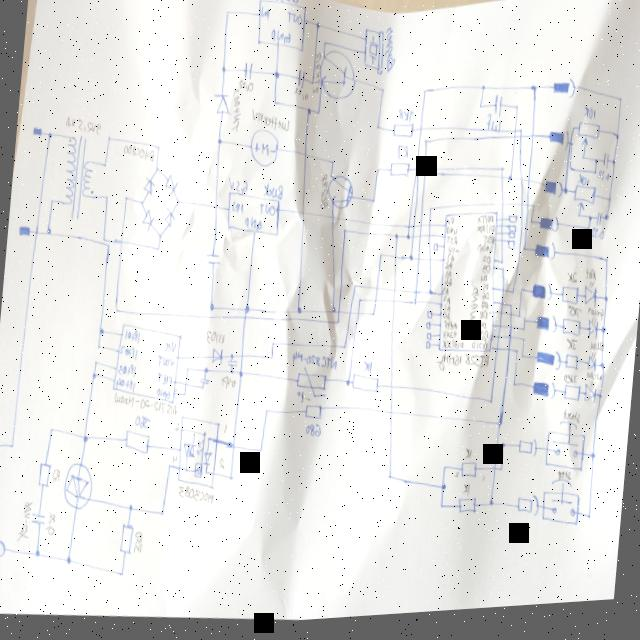capacitor: (203, 251, 222, 268), (492, 99, 504, 122), (241, 61, 254, 82), (30, 510, 45, 525), (296, 70, 306, 92), (600, 157, 611, 177), (592, 215, 602, 233), (226, 359, 237, 371), (200, 378, 210, 385)
crossover: (229, 442, 236, 452), (388, 386, 395, 394), (329, 216, 336, 224), (390, 290, 398, 297), (117, 238, 124, 245), (212, 205, 219, 212), (387, 412, 394, 419), (301, 153, 307, 161), (182, 381, 188, 388), (412, 292, 418, 299), (372, 300, 378, 307), (524, 207, 530, 214), (406, 227, 412, 234), (299, 212, 305, 218), (33, 228, 39, 234), (390, 302, 396, 308), (346, 313, 352, 319), (511, 133, 517, 139), (525, 183, 531, 189), (518, 207, 524, 213), (507, 329, 513, 335), (506, 339, 512, 345), (506, 352, 512, 358), (392, 257, 398, 263), (426, 225, 432, 231), (426, 236, 432, 242), (413, 170, 419, 176), (239, 355, 244, 361), (374, 289, 379, 295), (499, 180, 504, 186), (494, 351, 499, 357), (495, 339, 500, 345), (497, 328, 502, 334), (498, 315, 503, 321), (499, 306, 504, 312), (500, 292, 505, 298), (336, 312, 341, 318), (418, 226, 423, 232), (411, 226, 416, 232), (427, 261, 432, 267), (418, 129, 422, 136), (530, 138, 534, 145), (492, 470, 496, 477), (356, 313, 360, 319), (518, 181, 522, 187), (500, 207, 504, 213), (508, 317, 512, 323), (568, 146, 572, 152), (512, 140, 516, 145), (422, 171, 427, 175), (518, 140, 522, 144), (422, 177, 426, 181)
diode: (579, 287, 599, 317), (212, 93, 232, 118), (582, 386, 598, 412), (163, 173, 179, 197), (140, 208, 156, 232), (208, 346, 224, 366), (162, 206, 175, 230), (585, 323, 599, 345), (584, 357, 598, 378), (142, 174, 154, 196)
junction: (242, 304, 251, 316), (294, 307, 302, 319), (80, 432, 88, 444), (528, 89, 538, 98), (272, 71, 280, 82), (64, 554, 72, 565), (44, 226, 52, 235), (46, 129, 54, 138), (328, 308, 336, 317), (90, 370, 98, 379), (207, 303, 214, 313), (34, 546, 40, 557), (92, 357, 100, 365), (496, 424, 504, 432), (340, 229, 348, 237), (314, 111, 322, 119), (138, 198, 146, 206), (578, 160, 586, 168), (612, 138, 620, 146), (127, 503, 134, 512), (480, 87, 487, 96), (585, 518, 592, 527), (386, 475, 393, 484), (103, 192, 110, 201), (95, 342, 102, 351), (407, 257, 414, 266), (404, 236, 411, 245), (227, 475, 234, 484), (215, 138, 222, 147), (237, 371, 244, 380), (439, 487, 446, 495), (589, 458, 596, 466), (305, 110, 312, 118), (393, 235, 400, 243), (105, 134, 112, 142), (118, 569, 125, 577), (374, 127, 381, 135), (101, 160, 108, 168), (375, 169, 382, 177), (602, 219, 609, 227), (602, 263, 610, 270), (202, 367, 209, 375), (183, 366, 190, 374), (269, 341, 276, 349), (349, 285, 356, 293), (377, 255, 384, 263), (220, 66, 227, 74), (600, 332, 607, 340), (159, 509, 165, 518), (314, 23, 320, 32), (156, 231, 162, 240), (567, 170, 573, 179), (422, 141, 429, 148), (506, 180, 513, 187), (369, 201, 376, 208), (488, 503, 494, 511), (98, 327, 104, 335), (422, 91, 428, 99), (520, 330, 526, 338), (522, 321, 528, 329), (344, 381, 350, 389), (530, 209, 536, 217), (562, 192, 568, 200), (599, 368, 605, 376), (224, 10, 230, 17), (617, 102, 623, 109), (370, 314, 376, 321), (104, 242, 110, 249), (427, 293, 433, 300), (498, 171, 504, 178), (520, 251, 526, 258), (49, 196, 54, 204), (611, 165, 616, 173), (322, 42, 327, 50), (500, 447, 506, 453), (514, 109, 520, 115), (264, 409, 270, 415), (438, 507, 444, 513), (518, 292, 524, 298), (155, 246, 161, 252), (123, 195, 129, 201), (514, 353, 520, 359), (268, 355, 274, 361), (166, 463, 172, 469), (174, 199, 180, 205), (154, 166, 160, 172), (272, 102, 278, 108), (100, 236, 106, 242), (228, 370, 234, 376), (411, 303, 417, 309), (498, 264, 504, 270), (487, 403, 493, 409), (592, 165, 598, 171), (511, 385, 516, 392), (113, 306, 118, 313), (415, 175, 420, 182), (606, 202, 611, 209), (570, 130, 575, 137), (49, 425, 54, 431), (442, 468, 447, 474), (156, 145, 161, 151), (517, 318, 522, 324), (229, 354, 234, 360), (518, 133, 523, 139), (528, 224, 533, 230), (520, 342, 525, 348), (510, 295, 515, 301), (587, 222, 592, 228), (603, 302, 608, 308), (258, 448, 262, 455), (10, 440, 14, 447), (342, 347, 346, 353), (428, 209, 432, 215), (330, 161, 334, 167), (358, 300, 362, 306), (478, 108, 482, 114), (182, 392, 186, 398), (380, 91, 384, 97), (508, 308, 512, 314), (498, 472, 502, 478), (576, 217, 580, 223), (598, 399, 602, 405), (520, 358, 524, 364), (310, 83, 314, 89), (500, 273, 504, 277), (586, 232, 590, 236), (200, 386, 203, 391)
resistor: (122, 427, 152, 457), (350, 373, 382, 398), (571, 186, 595, 217), (576, 126, 600, 155), (117, 520, 136, 556), (558, 322, 582, 345), (391, 124, 414, 144), (36, 460, 52, 488), (559, 289, 579, 311), (456, 500, 476, 521), (458, 464, 478, 484), (389, 164, 410, 183), (302, 405, 323, 424), (562, 391, 580, 409), (564, 359, 580, 377)
source: (17, 221, 31, 237)
switch: (542, 422, 588, 482), (539, 481, 582, 535)
terminal: (0, 537, 7, 558), (32, 124, 42, 136)
text: (112, 388, 180, 422), (436, 353, 489, 378), (290, 349, 338, 376), (250, 108, 291, 137), (176, 483, 214, 508), (64, 112, 103, 135), (380, 29, 398, 77), (15, 498, 32, 542), (122, 141, 154, 164), (310, 53, 324, 99), (228, 90, 242, 136), (465, 290, 478, 326), (262, 183, 284, 204), (225, 177, 249, 196), (318, 175, 330, 212), (131, 410, 151, 431), (204, 330, 226, 347), (43, 510, 57, 535), (482, 123, 502, 140), (561, 414, 581, 431), (304, 424, 322, 442), (157, 353, 176, 370), (271, 30, 290, 47), (132, 529, 144, 555), (266, 0, 300, 9), (396, 110, 414, 127), (258, 203, 276, 220), (118, 361, 136, 377), (114, 377, 136, 390), (442, 342, 464, 355), (119, 344, 138, 359), (154, 371, 173, 386), (243, 218, 262, 233), (284, 13, 301, 29), (292, 90, 308, 106), (238, 80, 254, 96), (395, 147, 410, 164), (123, 328, 141, 342), (560, 377, 578, 391), (218, 376, 236, 390), (585, 312, 604, 325), (588, 233, 605, 247), (582, 110, 596, 127), (564, 342, 578, 359), (295, 393, 312, 407), (154, 387, 172, 400), (230, 201, 245, 216), (595, 177, 611, 191), (50, 463, 60, 485), (476, 227, 496, 238), (476, 218, 494, 230), (162, 338, 176, 353), (588, 346, 605, 358), (565, 311, 580, 324), (584, 272, 596, 288), (556, 475, 572, 487), (476, 248, 492, 260), (564, 275, 575, 291), (576, 181, 590, 193), (463, 449, 474, 464), (361, 363, 372, 378), (481, 238, 495, 249), (473, 337, 488, 347), (446, 238, 458, 250), (443, 325, 457, 335), (461, 486, 470, 501), (259, 9, 269, 22), (445, 229, 458, 239), (471, 345, 487, 353), (442, 334, 456, 343), (444, 221, 456, 231), (480, 295, 490, 307), (476, 333, 488, 343), (585, 379, 601, 386), (445, 256, 455, 267), (442, 299, 452, 309), (481, 260, 492, 269), (479, 304, 488, 315), (477, 325, 486, 336), (447, 250, 459, 258), (444, 280, 452, 292), (479, 277, 488, 287), (478, 315, 488, 324), (170, 455, 178, 466), (218, 459, 225, 471), (481, 268, 490, 277), (222, 425, 228, 437), (441, 290, 449, 299), (442, 316, 450, 325), (444, 274, 452, 282), (174, 423, 180, 433), (452, 475, 459, 483), (445, 266, 452, 274), (443, 308, 450, 316), (482, 286, 488, 295), (480, 478, 484, 488)
transformer: (60, 132, 98, 222)
transistor: (316, 48, 359, 107), (325, 176, 354, 214)
